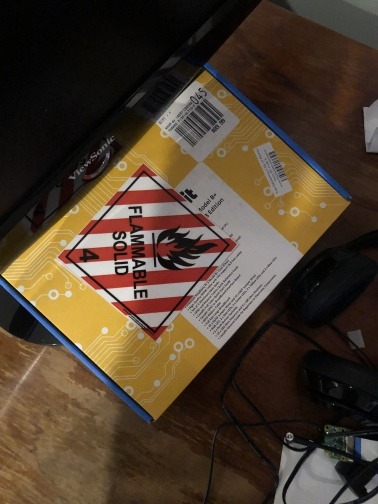FlammableSolid: (65, 174, 234, 329)
